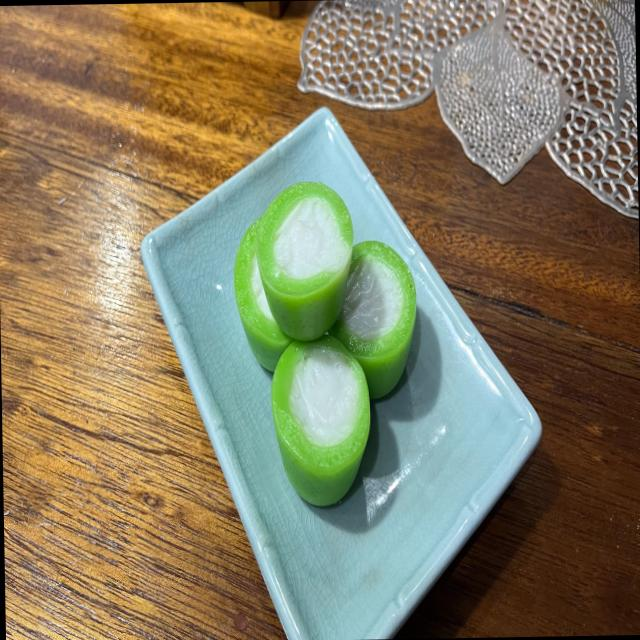nona-manis: (271, 335, 369, 505), (256, 182, 352, 340), (329, 241, 416, 399), (234, 219, 292, 372)
